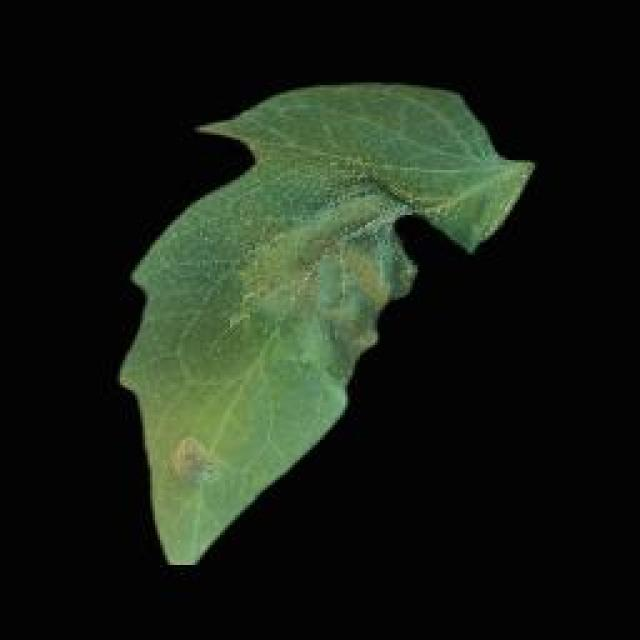Tomato Late Blight: (190, 155, 475, 385)
